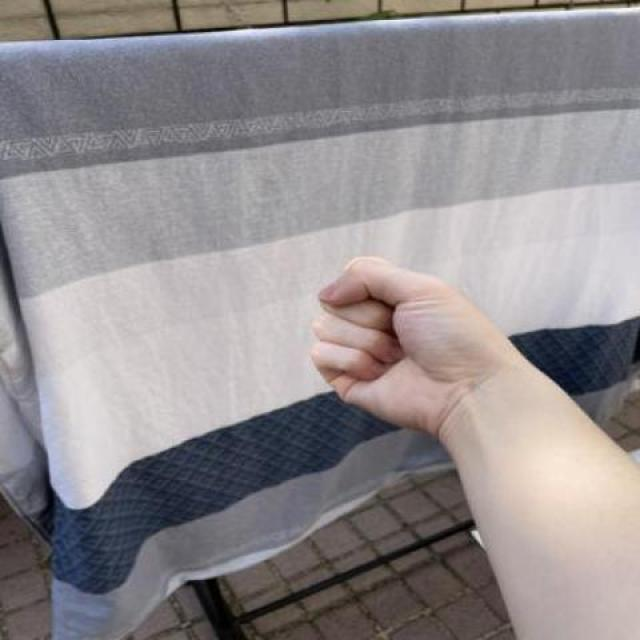Closed Hand: (301, 252, 508, 448)
